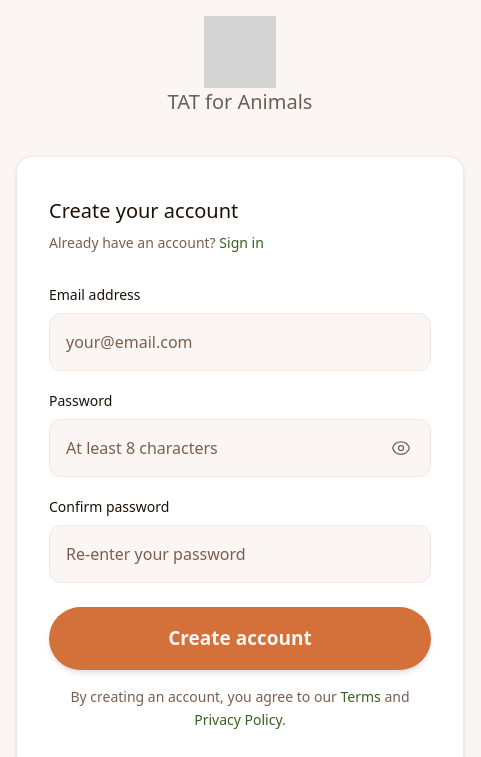
Test case: SignupClient — client-side validation › rejects password of 7 characters
Type "user@test.com" into the field labelled "Email address". click: (240, 342)
box: [49,313,431,371]
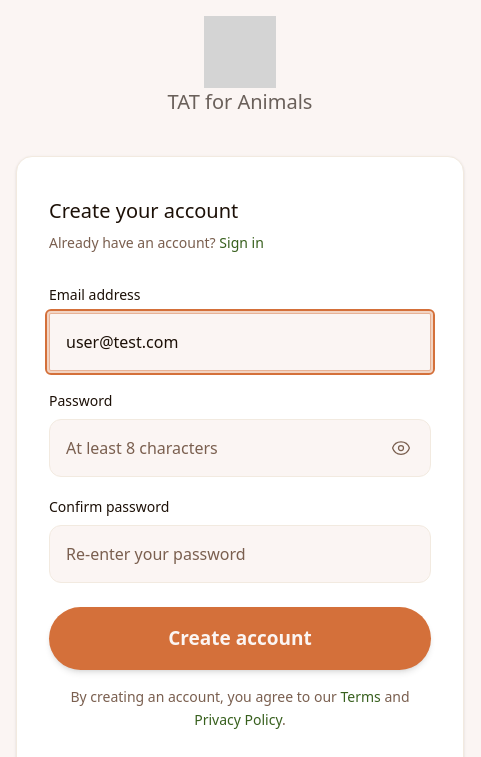
Type "seven77" into the password field labelled "Password". click: (240, 448)
box: [49,419,431,477]
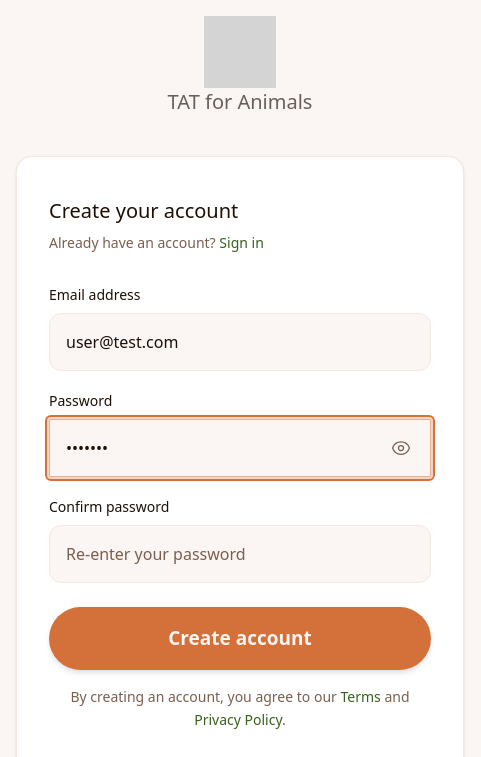
Type "seven77" into the password field labelled "Confirm password". click: (240, 554)
box: [49,525,431,583]
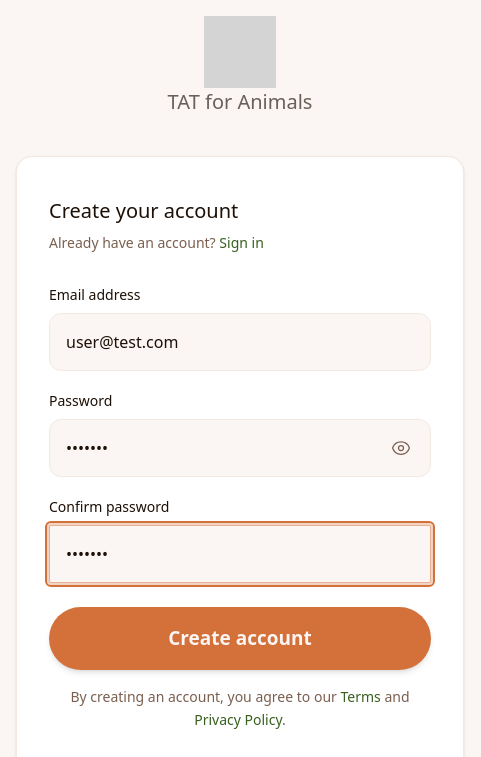
Click the button "Create account". click: (240, 639)
box: [49,607,431,670]
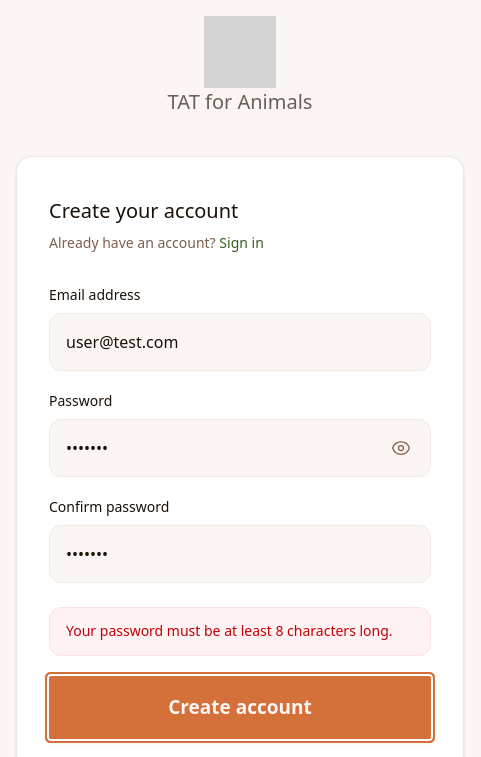
expect the text "Your password must be at least 8 characters long." is shown: met, box [66,620,414,643]
